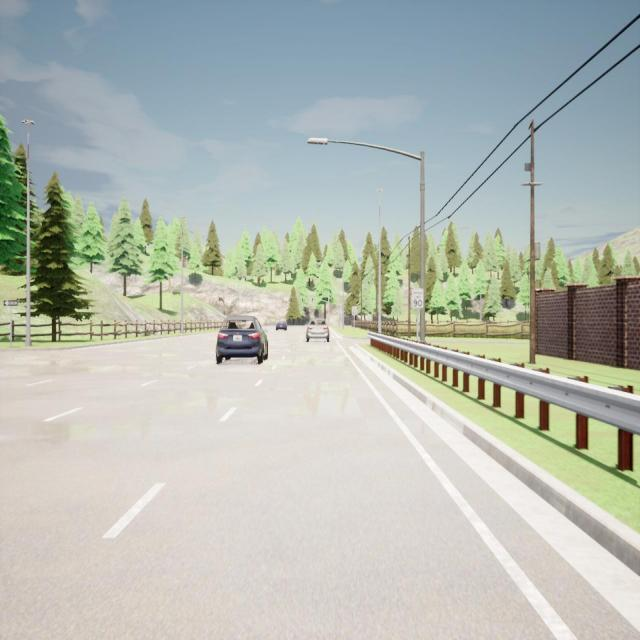Traffic_Signs: (412, 288, 424, 308), (4, 300, 18, 306), (352, 306, 357, 316)
Vehicle: (216, 315, 268, 363), (305, 318, 330, 343), (275, 319, 288, 332)
